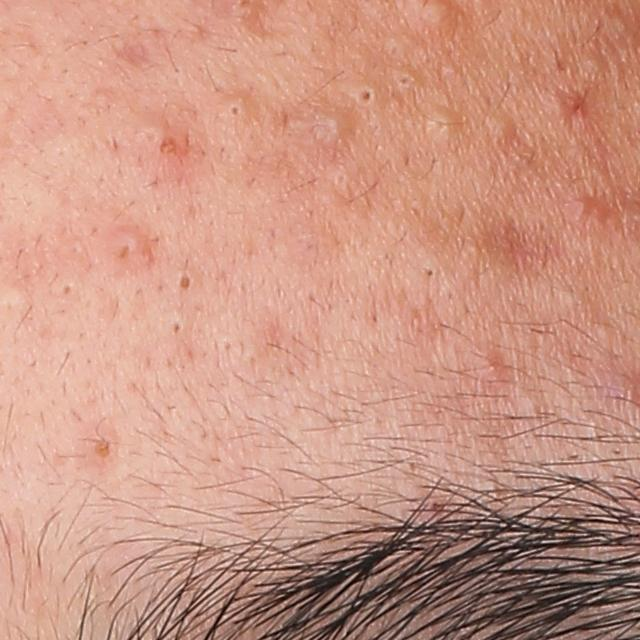atrophic_scar: (106, 38, 160, 73)
comedo: (315, 109, 370, 148), (422, 104, 462, 149), (481, 108, 519, 143), (169, 265, 204, 295), (583, 48, 609, 76), (354, 82, 378, 109), (92, 436, 120, 459), (394, 69, 417, 91), (420, 262, 440, 285), (59, 279, 78, 296), (168, 319, 186, 336)
